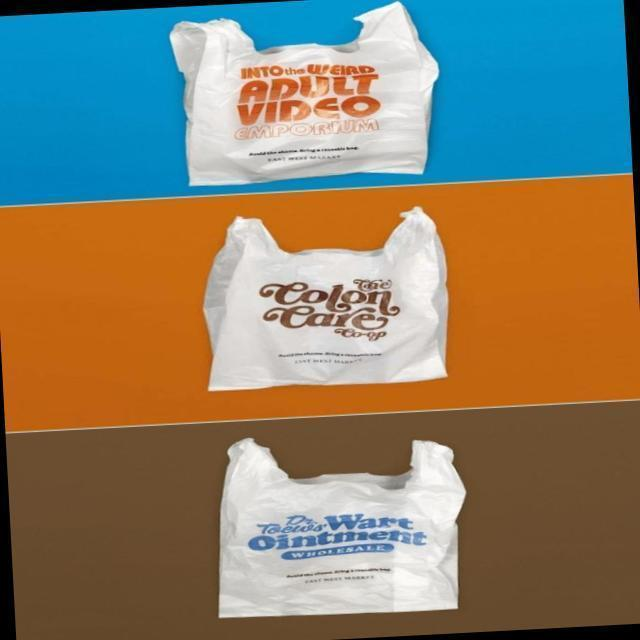Plastic_Bag: (162, 3, 446, 196)
